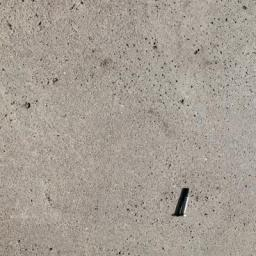FOD: (173, 183, 195, 222)
